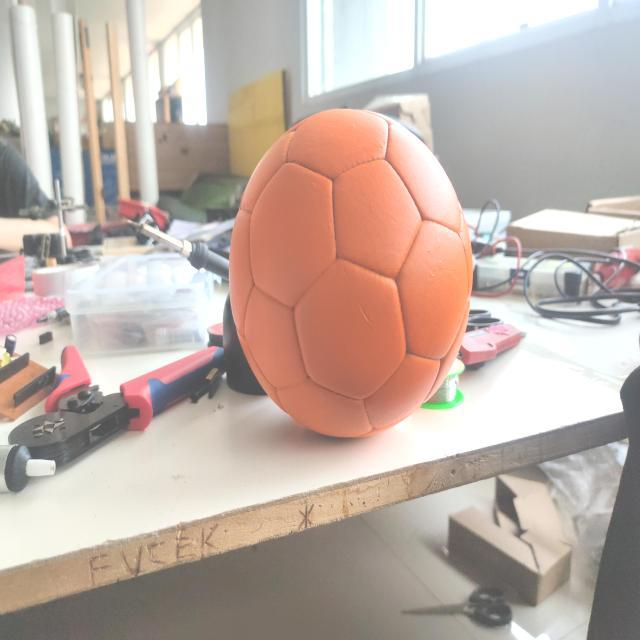bola: (225, 103, 472, 444)
